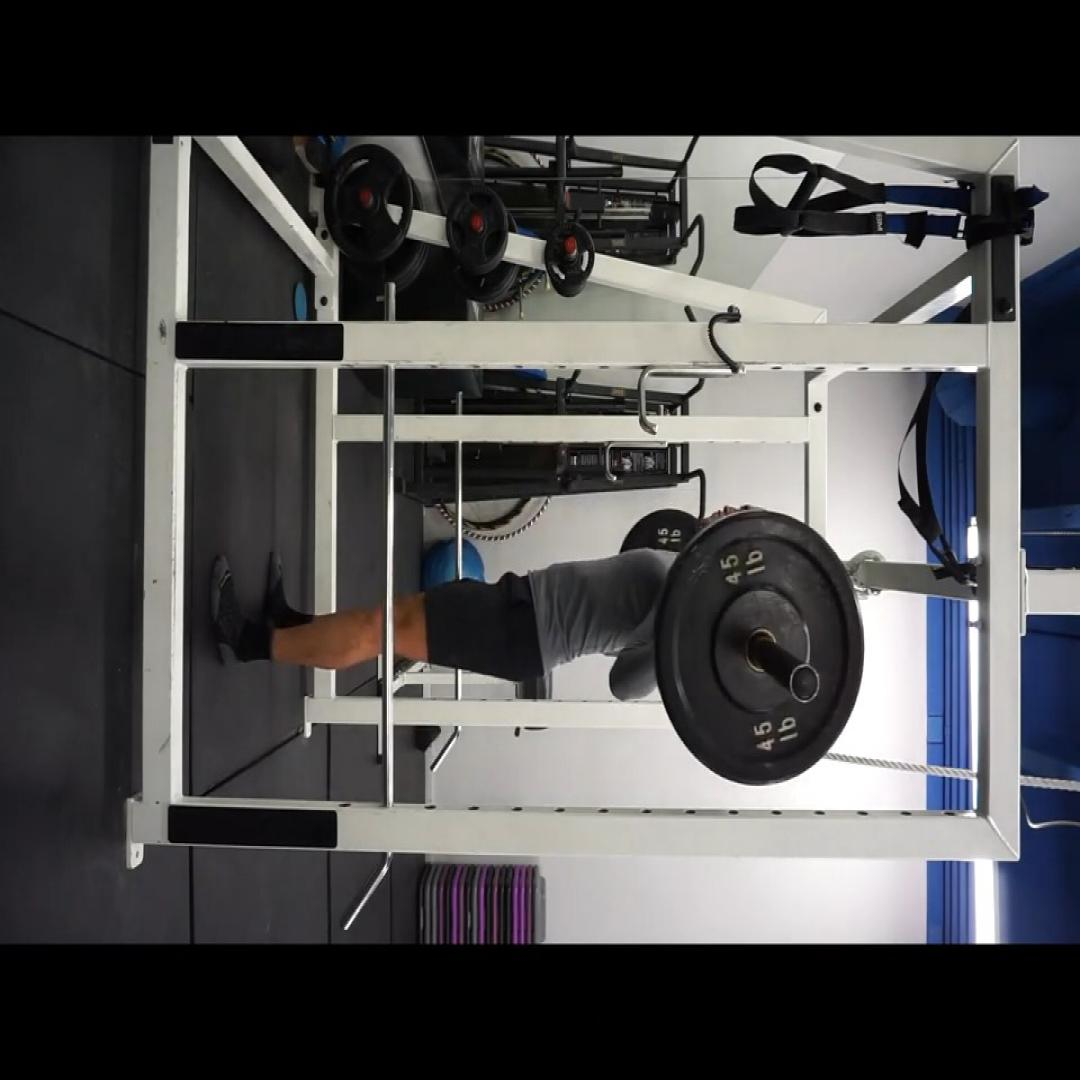Bar: (791, 665, 819, 705)
Barbell: (655, 512, 863, 784)
